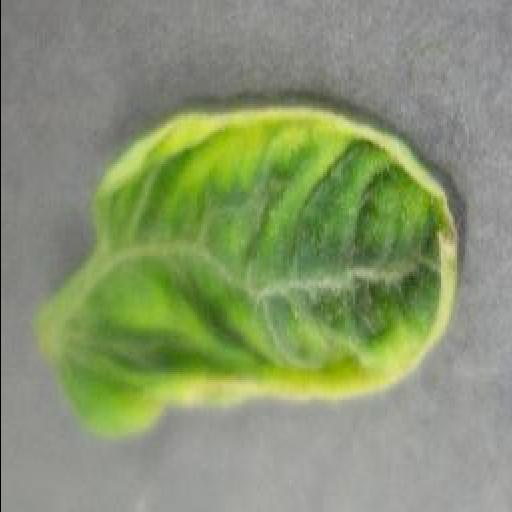disease_tomato: (40, 100, 466, 440)
